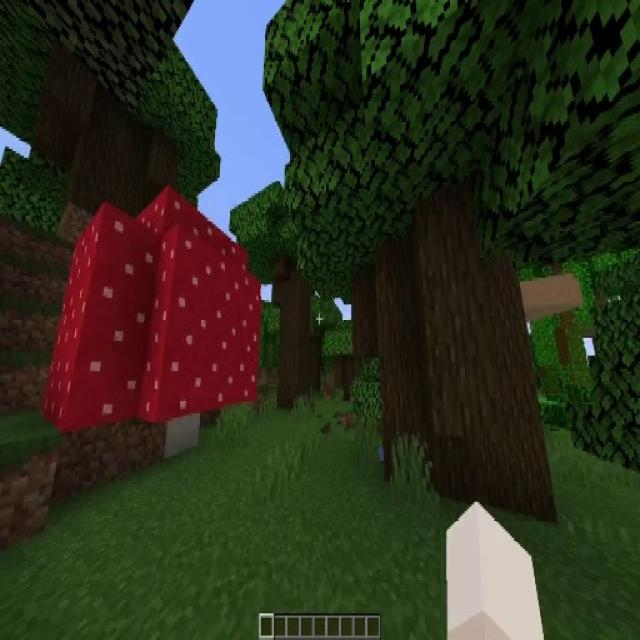dark_oak: (339, 1, 558, 518), (250, 185, 326, 404)
dark_oak_log: (370, 194, 541, 510), (75, 91, 170, 218), (275, 269, 318, 400)
